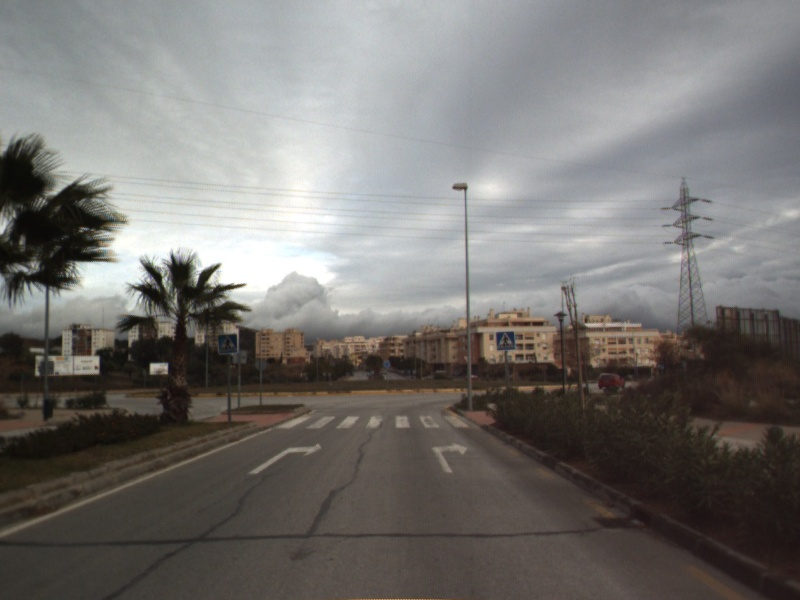RIGHT: (247, 441, 324, 476), (430, 440, 470, 475)
